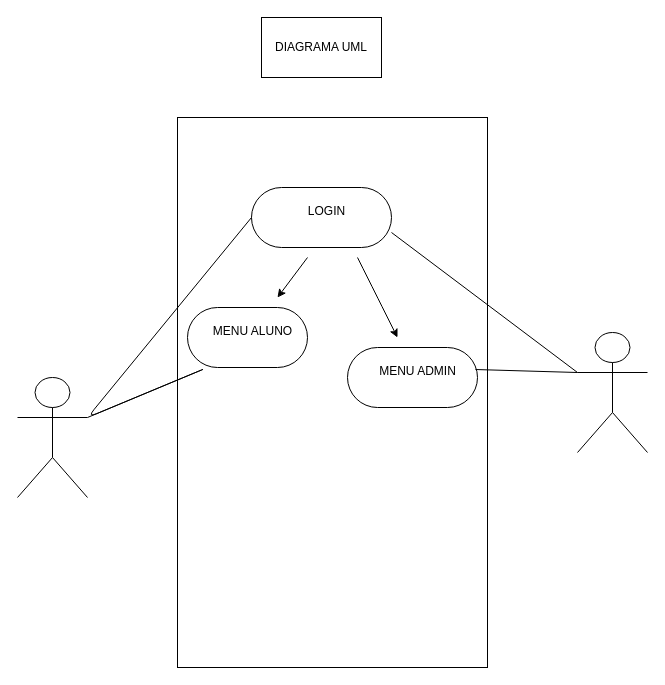
Some shapes in this 665 by 685 pixel diagram are drawn without their labels. The shapes that lost their labels are listed below. From the top down, each one's box as (x1, y1, x2, y2) in pixels, then its label:
(576, 332, 648, 452): ADMIN
(16, 376, 88, 498): ALUNO
